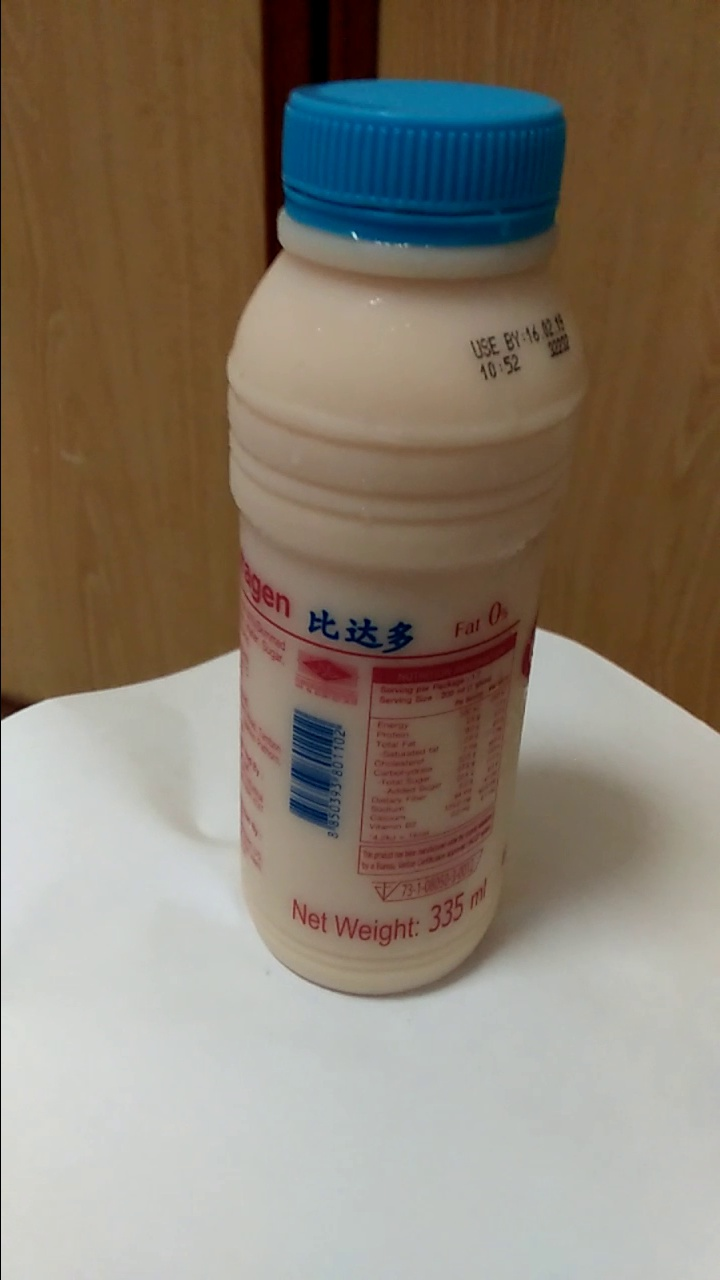mlik2: (239, 84, 570, 1002)
